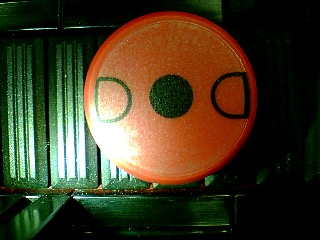BOHOMIPO2: (83, 11, 258, 184)
